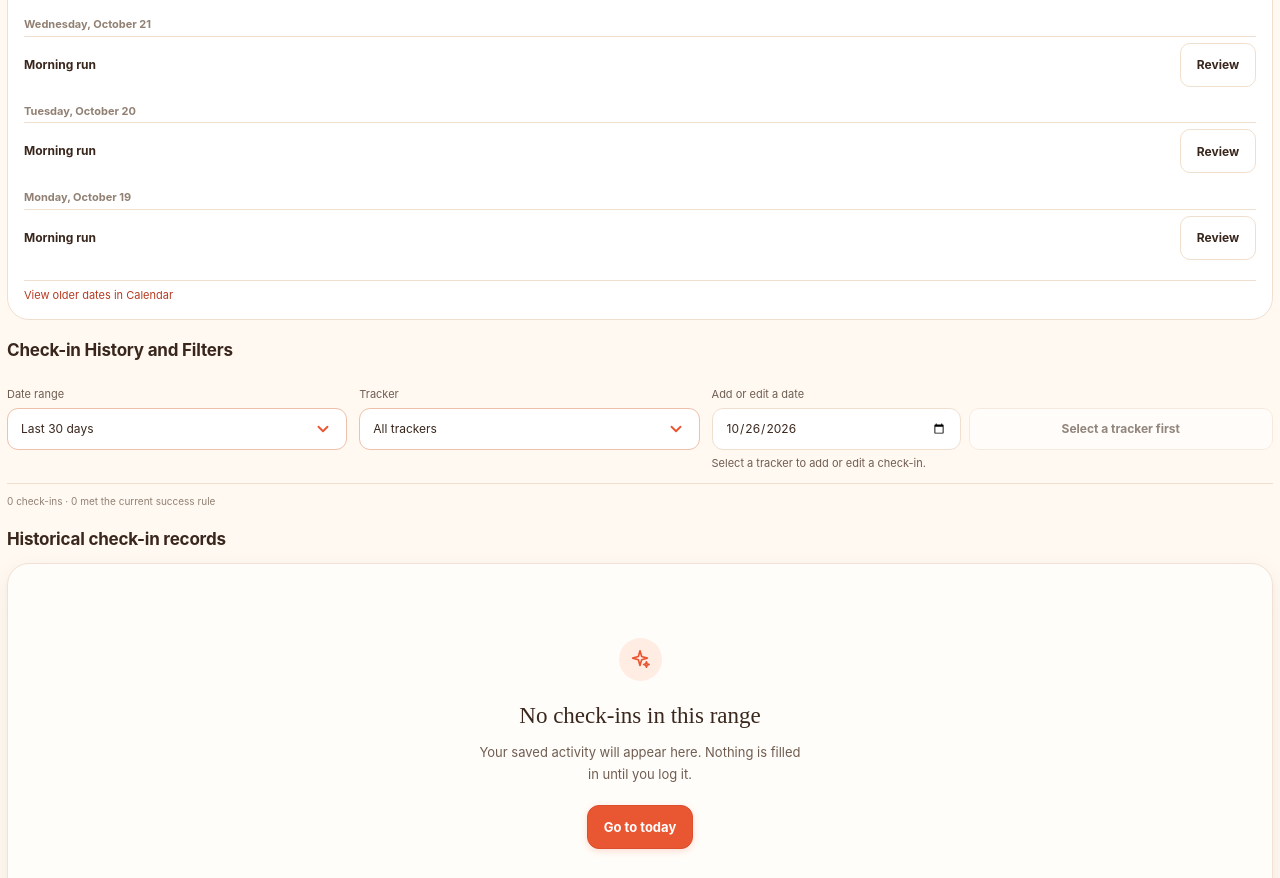
Test: local check-in history › explains the tracker requirement and labels the action for a valid active tracker/date
This screenshot has width=1280, height=878.
(page scrolled)
Expected: the button "Select a tracker first" is disabled, left=969, top=408, right=1273, bottom=450
Expected: the text "Select a tracker to add or edit a check-in." is shown, left=712, top=456, right=926, bottom=470
Step 1. Select "Morning run" in the dropdown labelled "Tracker" → (529, 429), box left=359, top=408, right=700, bottom=450
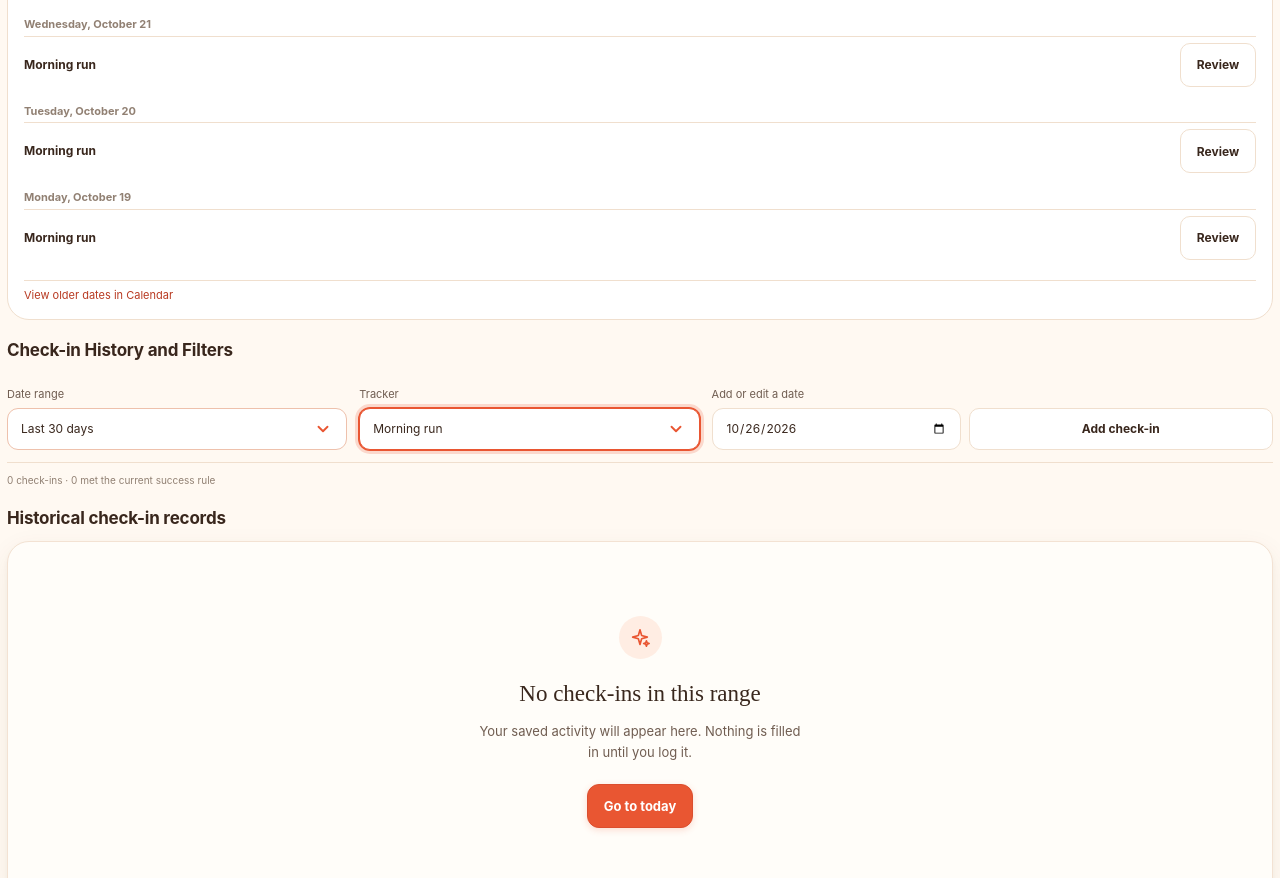
Expected: the button "Add check-in" is enabled
Step 2. Click the button "Add check-in" → (1121, 429), box left=969, top=408, right=1273, bottom=450
(page scrolled)
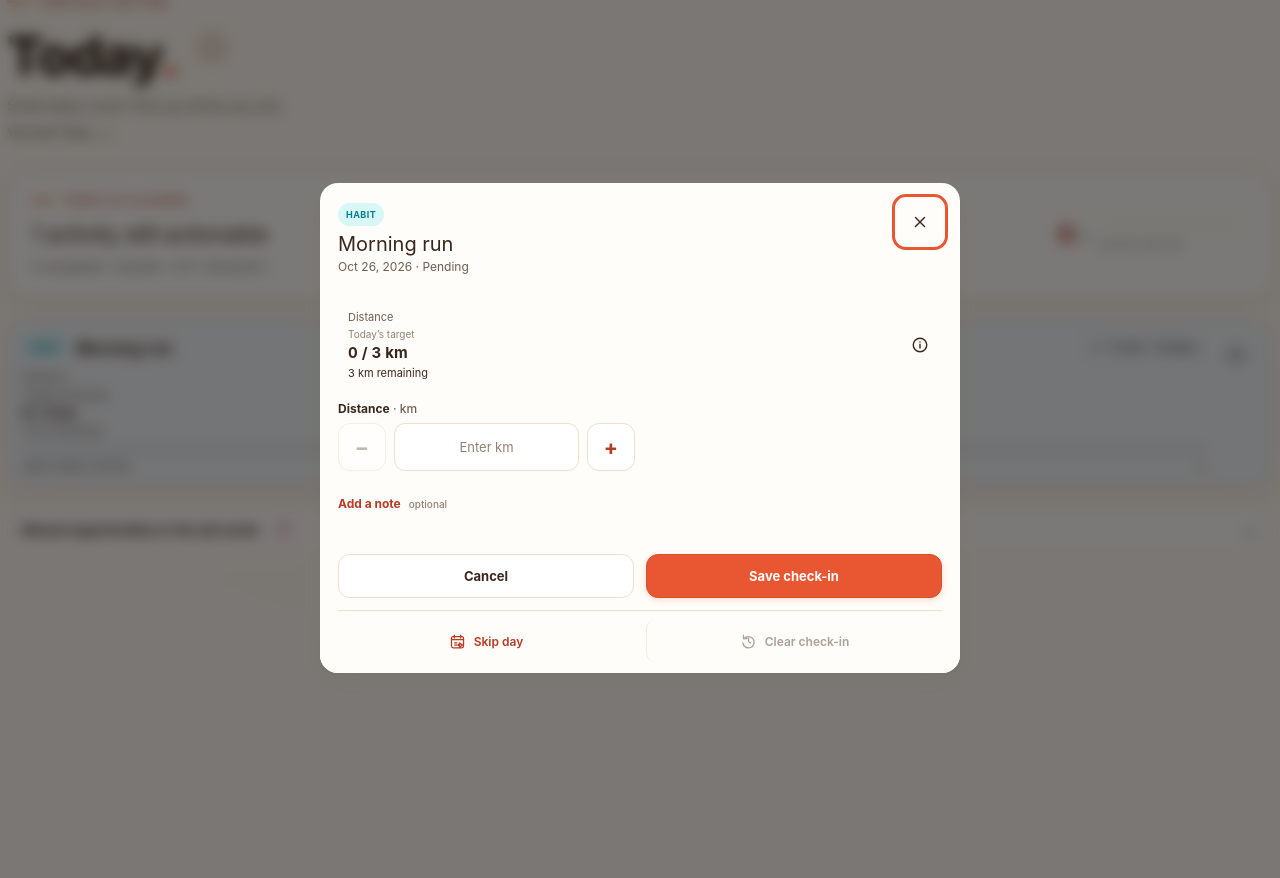
Expected: the number field labelled "Distance" is shown, left=394, top=424, right=579, bottom=472
